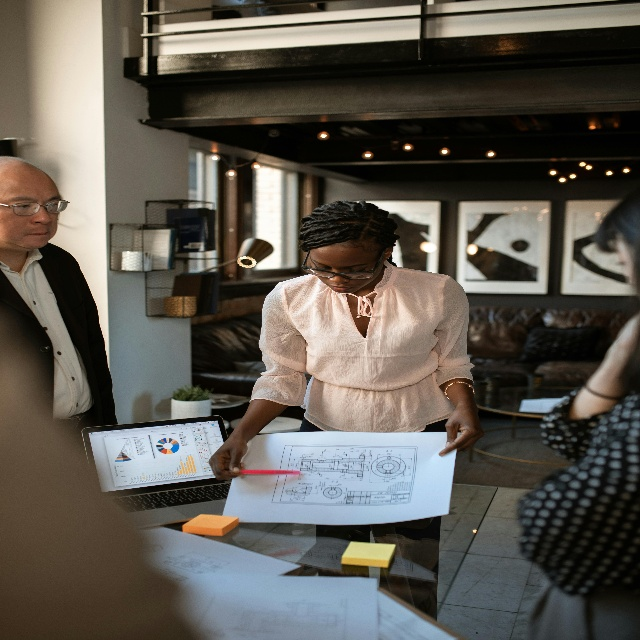Gafas: (302, 248, 387, 280), (0, 198, 70, 216)
Sin_guantes: (438, 403, 485, 457), (208, 433, 247, 481)
